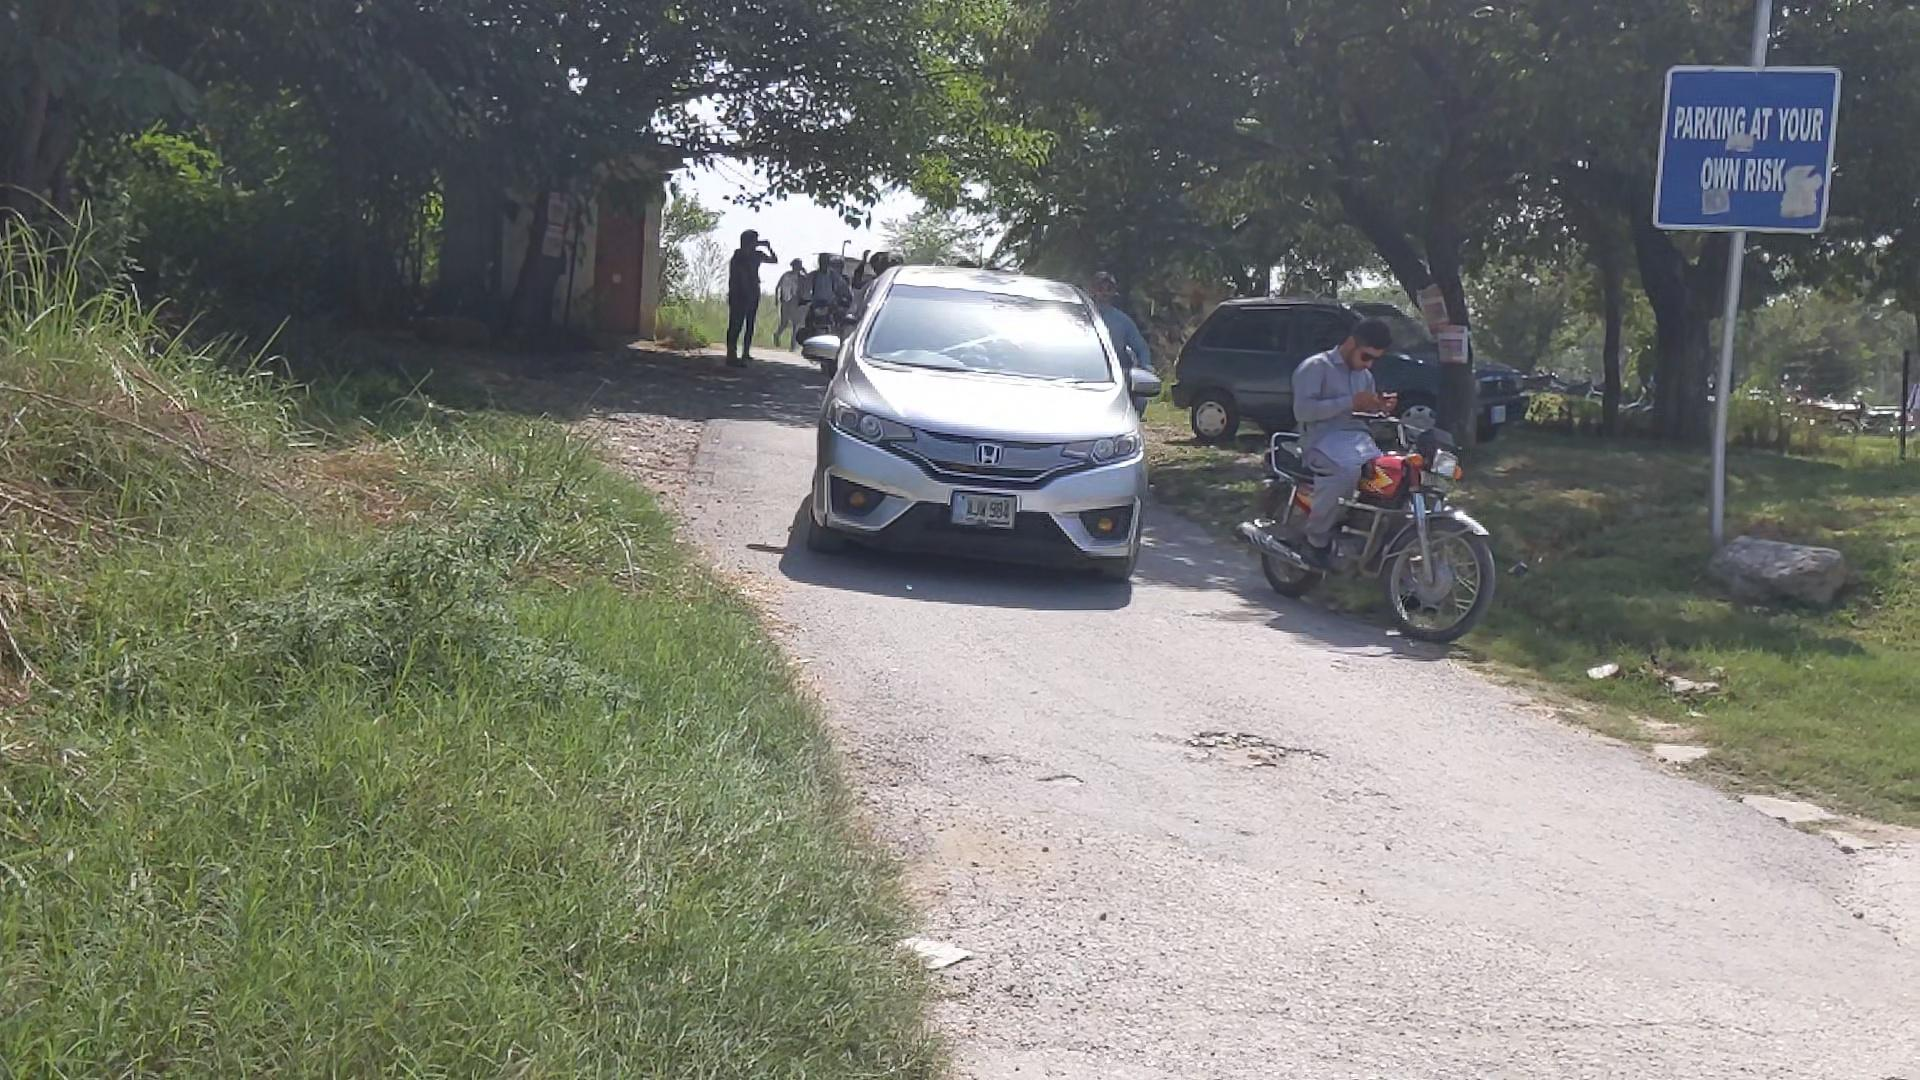windshield: (857, 273, 1122, 390)
